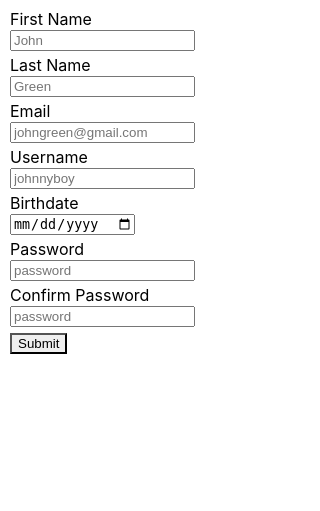
RegisterForm › should display error when password is too short
This screenshot has width=320, height=511.
Type "not5" into the password field with test id "password" at (102, 271), box x1=10 y1=260 x2=195 y2=281
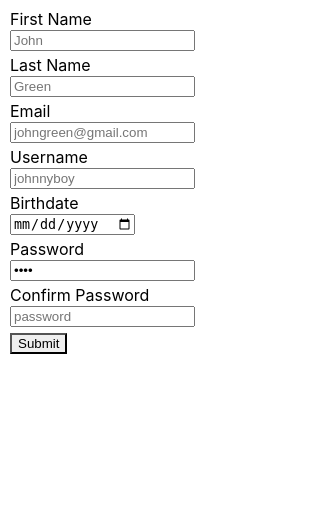
Submit the form from the button, box x1=10 y1=333 x2=68 y2=354
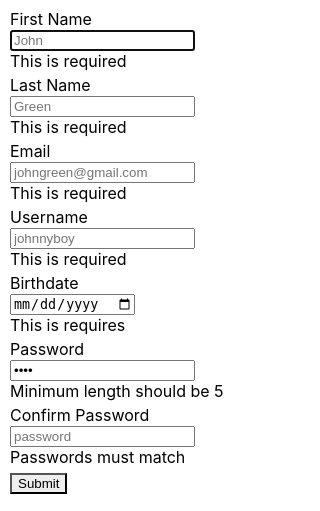
Check: the message "Minimum length should be 5" is shown, box x1=10 y1=381 x2=224 y2=401
